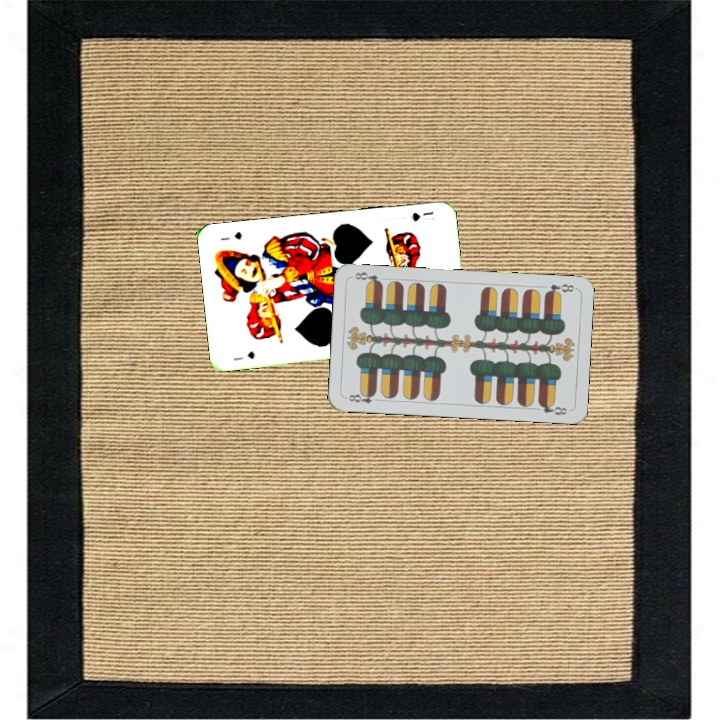E8: (344, 388, 383, 406), (541, 280, 576, 298)
GU: (406, 207, 437, 224), (230, 347, 257, 363)
